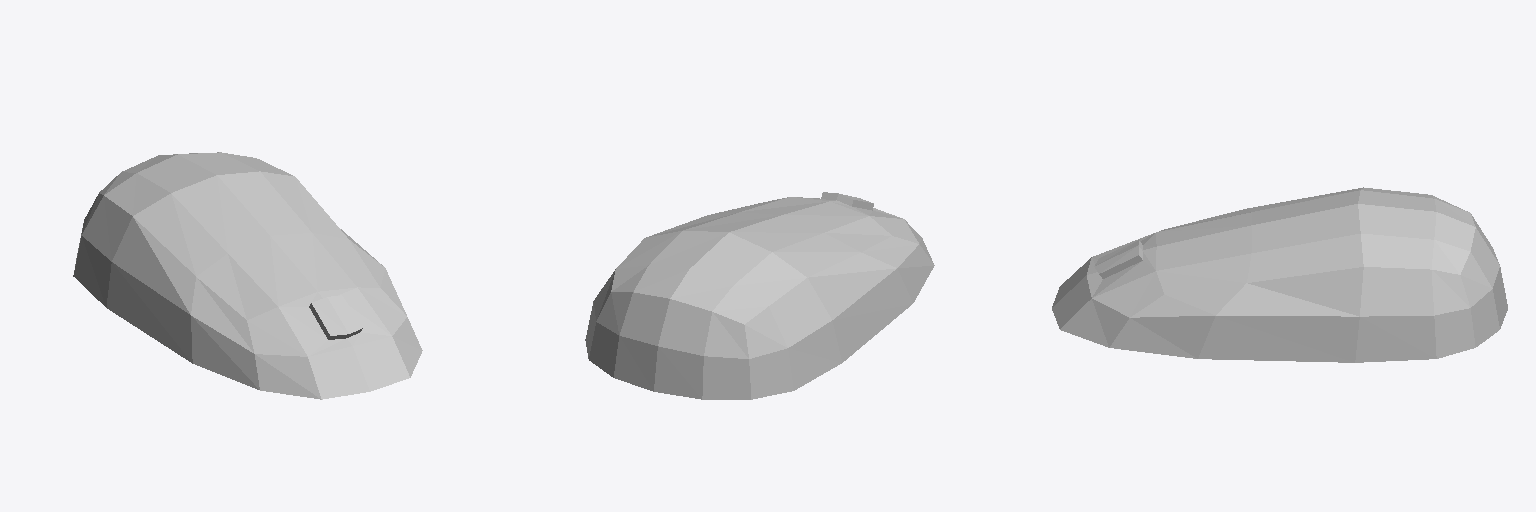
Rendered from computerMouse.obj.
3 views of the same model, side by side, from view 1: azimuth 30°, elevation 25°; view 2: azimuth 150°, elevation 25°; view 3: azimuth 270°, elevation 25° (orthographic).
Visible parts, largest first — view 1: Cube; view 2: Cube; view 3: Cube.
Part boxes in pixels (x1,y1,x2,y2): Cube: (73, 152, 422, 399); Cube: (585, 192, 934, 399); Cube: (1052, 187, 1507, 362).
Size of the model in its own units: 1.68 by 0.7484 by 2.96.